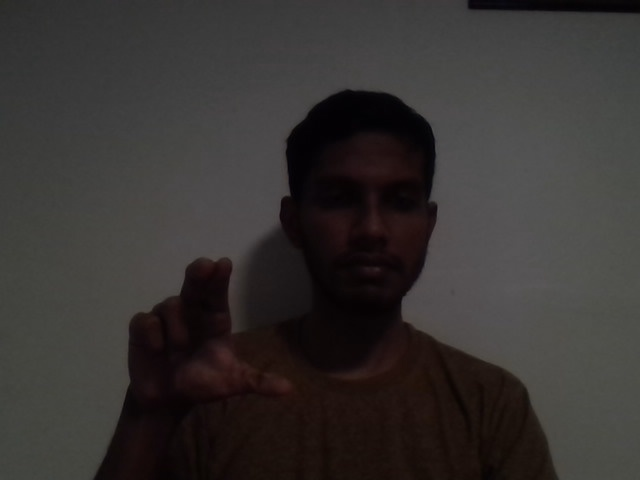no: (102, 251, 310, 437)
